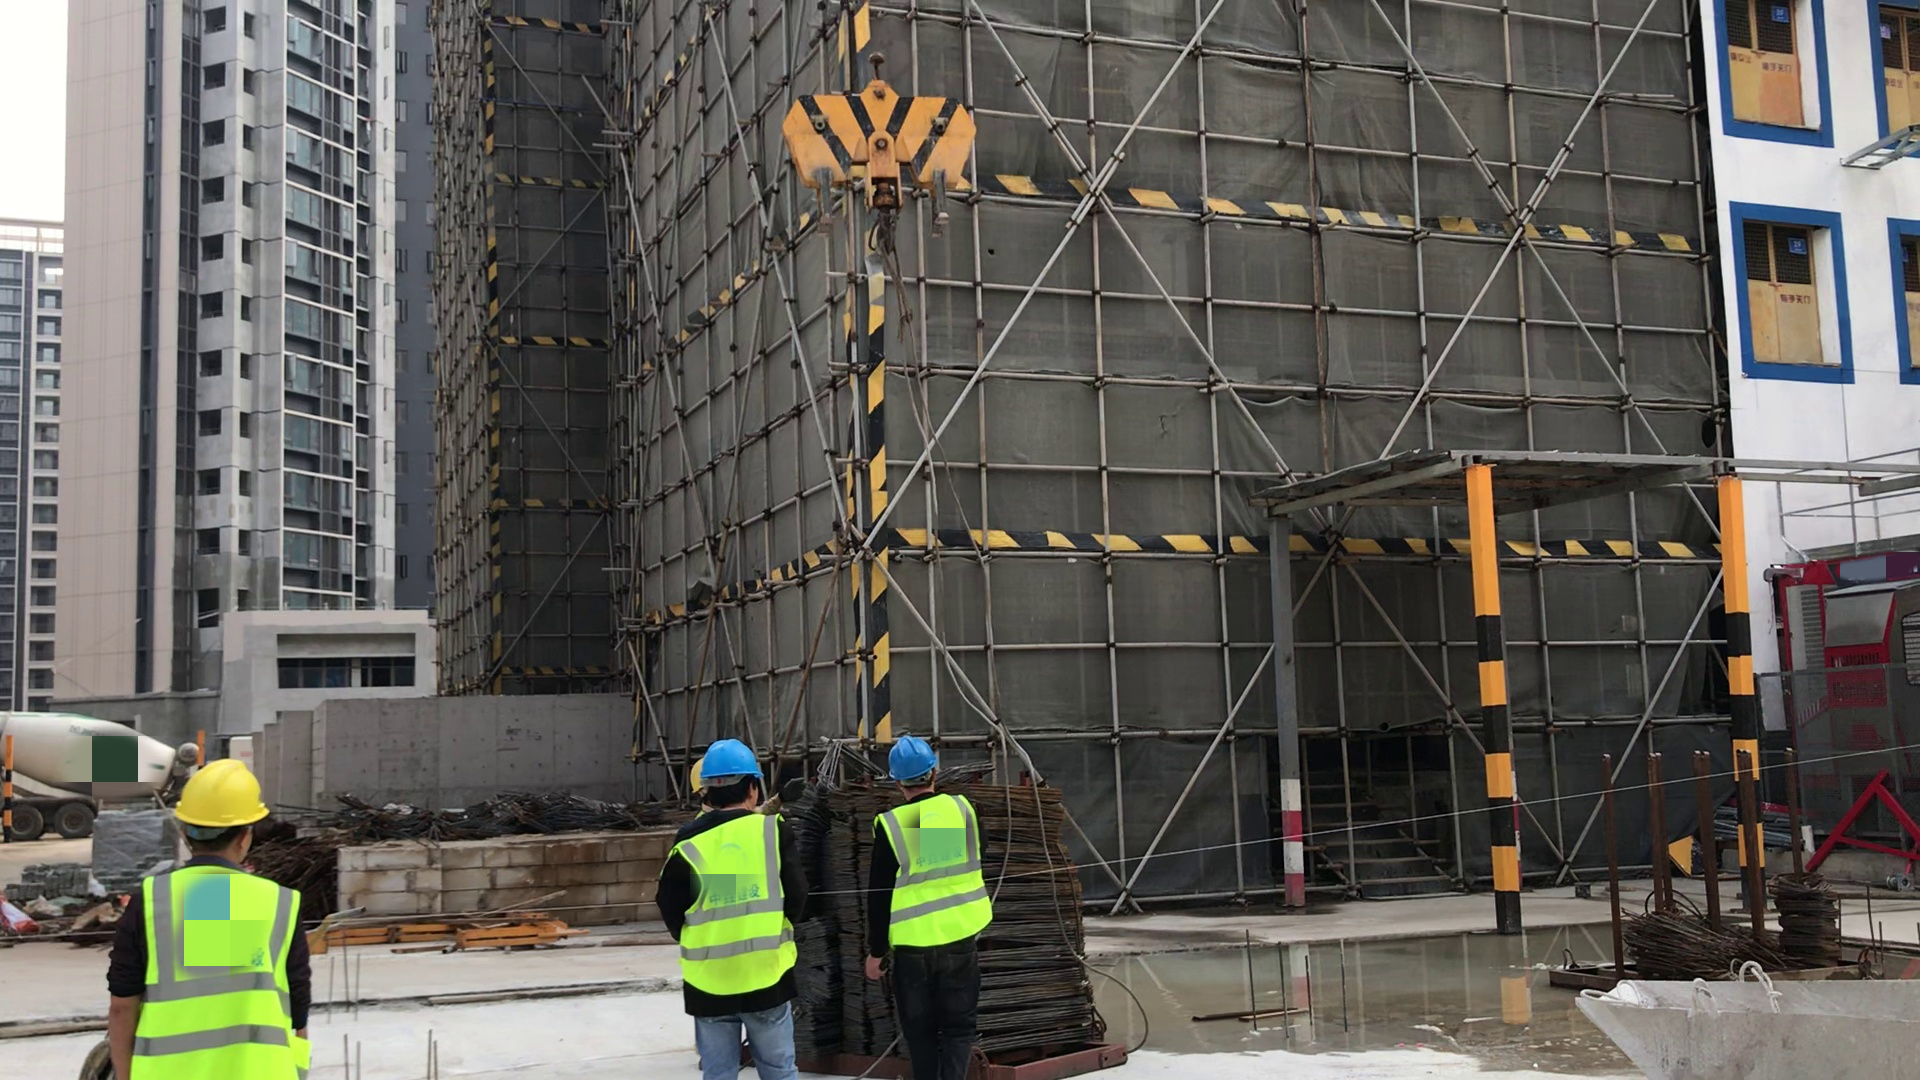helmet: (171, 761, 267, 826), (888, 735, 938, 783), (705, 741, 761, 781)
hook: (782, 53, 979, 254)
hopper: (1588, 968, 1920, 1080)
person: (104, 757, 312, 1080), (656, 739, 815, 1080), (870, 746, 996, 1080)
rebar: (978, 781, 1106, 1064)
vest: (124, 868, 307, 1080), (662, 812, 800, 996), (871, 796, 997, 951)
